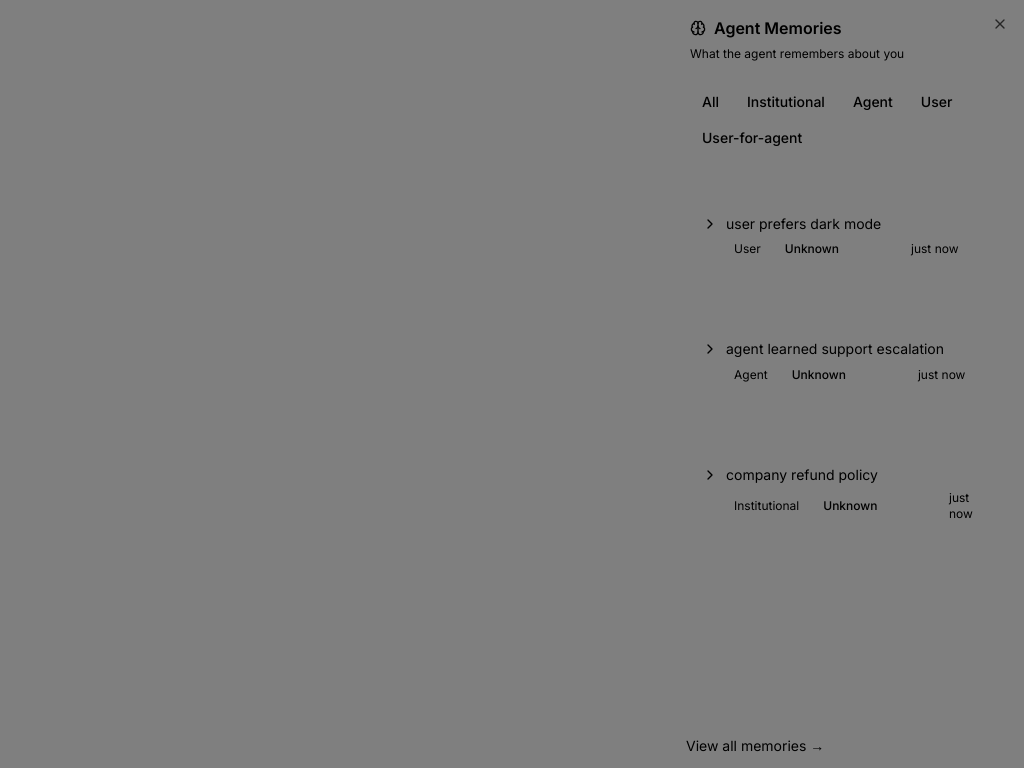
Test: MemorySidebar › filters memories by tier when a chip is clicked
Expected: the text "user prefers dark mode" is shown, [726,215,881,232]
Expected: the text "agent learned support escalation" is shown, [726,340,944,357]
Click the button with test id "tier-filter-institutional" at (786, 102), box [735,86,837,118]
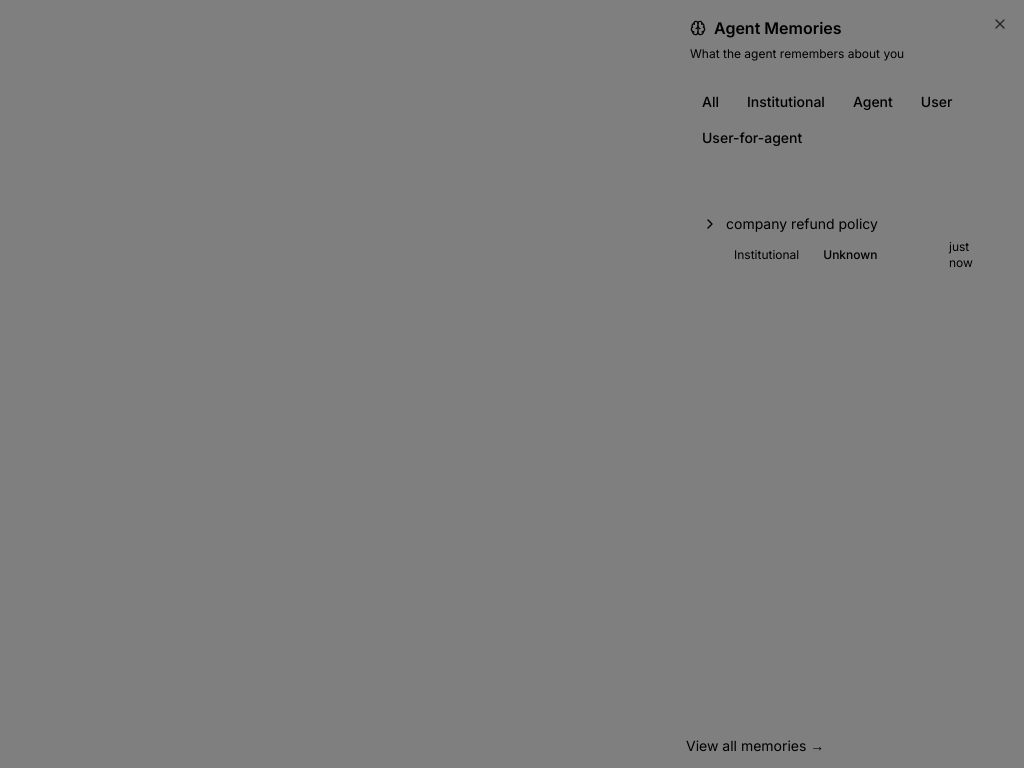
Expected: the text "company refund policy" is shown, [726,215,878,232]
Expected: the text "user prefers dark mode" is gone
Expected: the text "agent learned support escalation" is gone
Click the button with test id "tier-filter-all" at (710, 102), box [690,86,731,118]
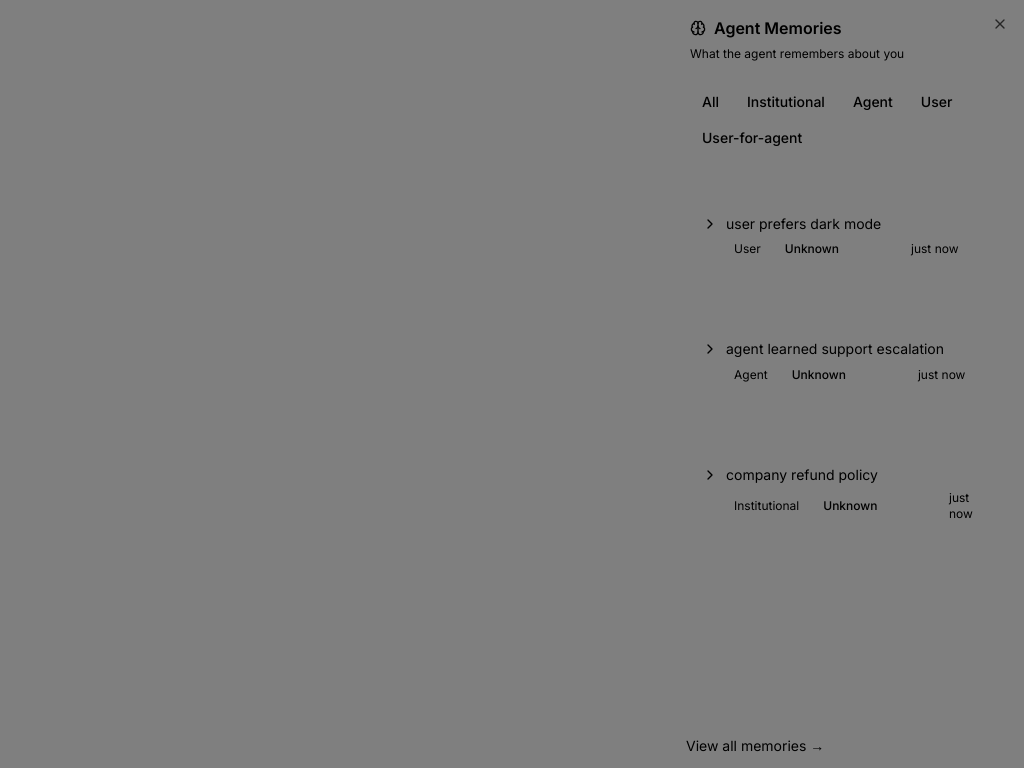
Expected: the text "company refund policy" is shown, [726,466,878,482]
Expected: the text "user prefers dark mode" is shown, [726,215,881,232]
Expected: the text "agent learned support escalation" is shown, [726,340,944,357]
